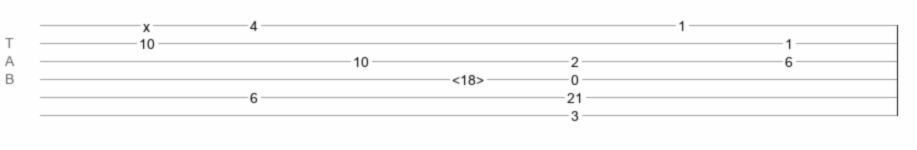0: (571, 72, 579, 82)
1: (678, 18, 686, 28), (785, 36, 793, 46)
10: (139, 36, 155, 46), (353, 54, 369, 64)
2: (571, 54, 579, 64)
21: (567, 90, 583, 100)
3: (571, 108, 579, 118)
4: (250, 18, 258, 28)
6: (250, 90, 258, 100), (785, 54, 793, 64)
harmonic: (452, 72, 484, 82)
x: (143, 19, 150, 27)
